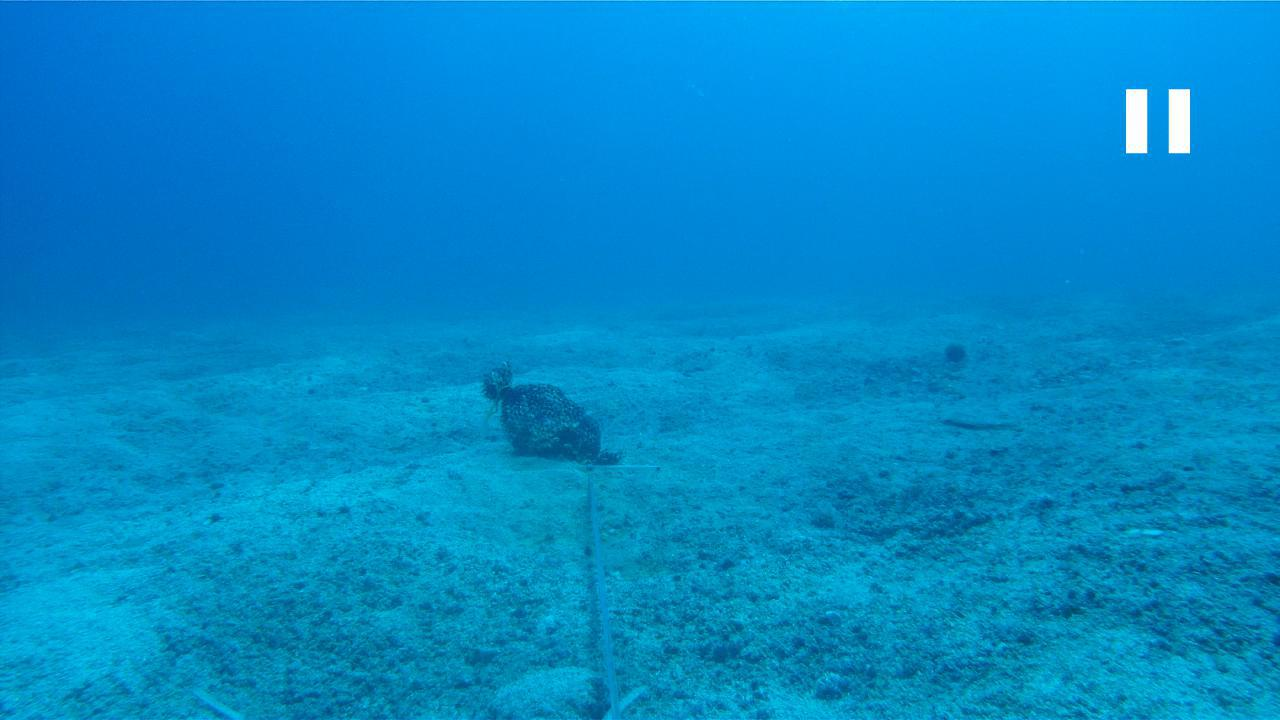bothus: (936, 400, 1016, 432)
